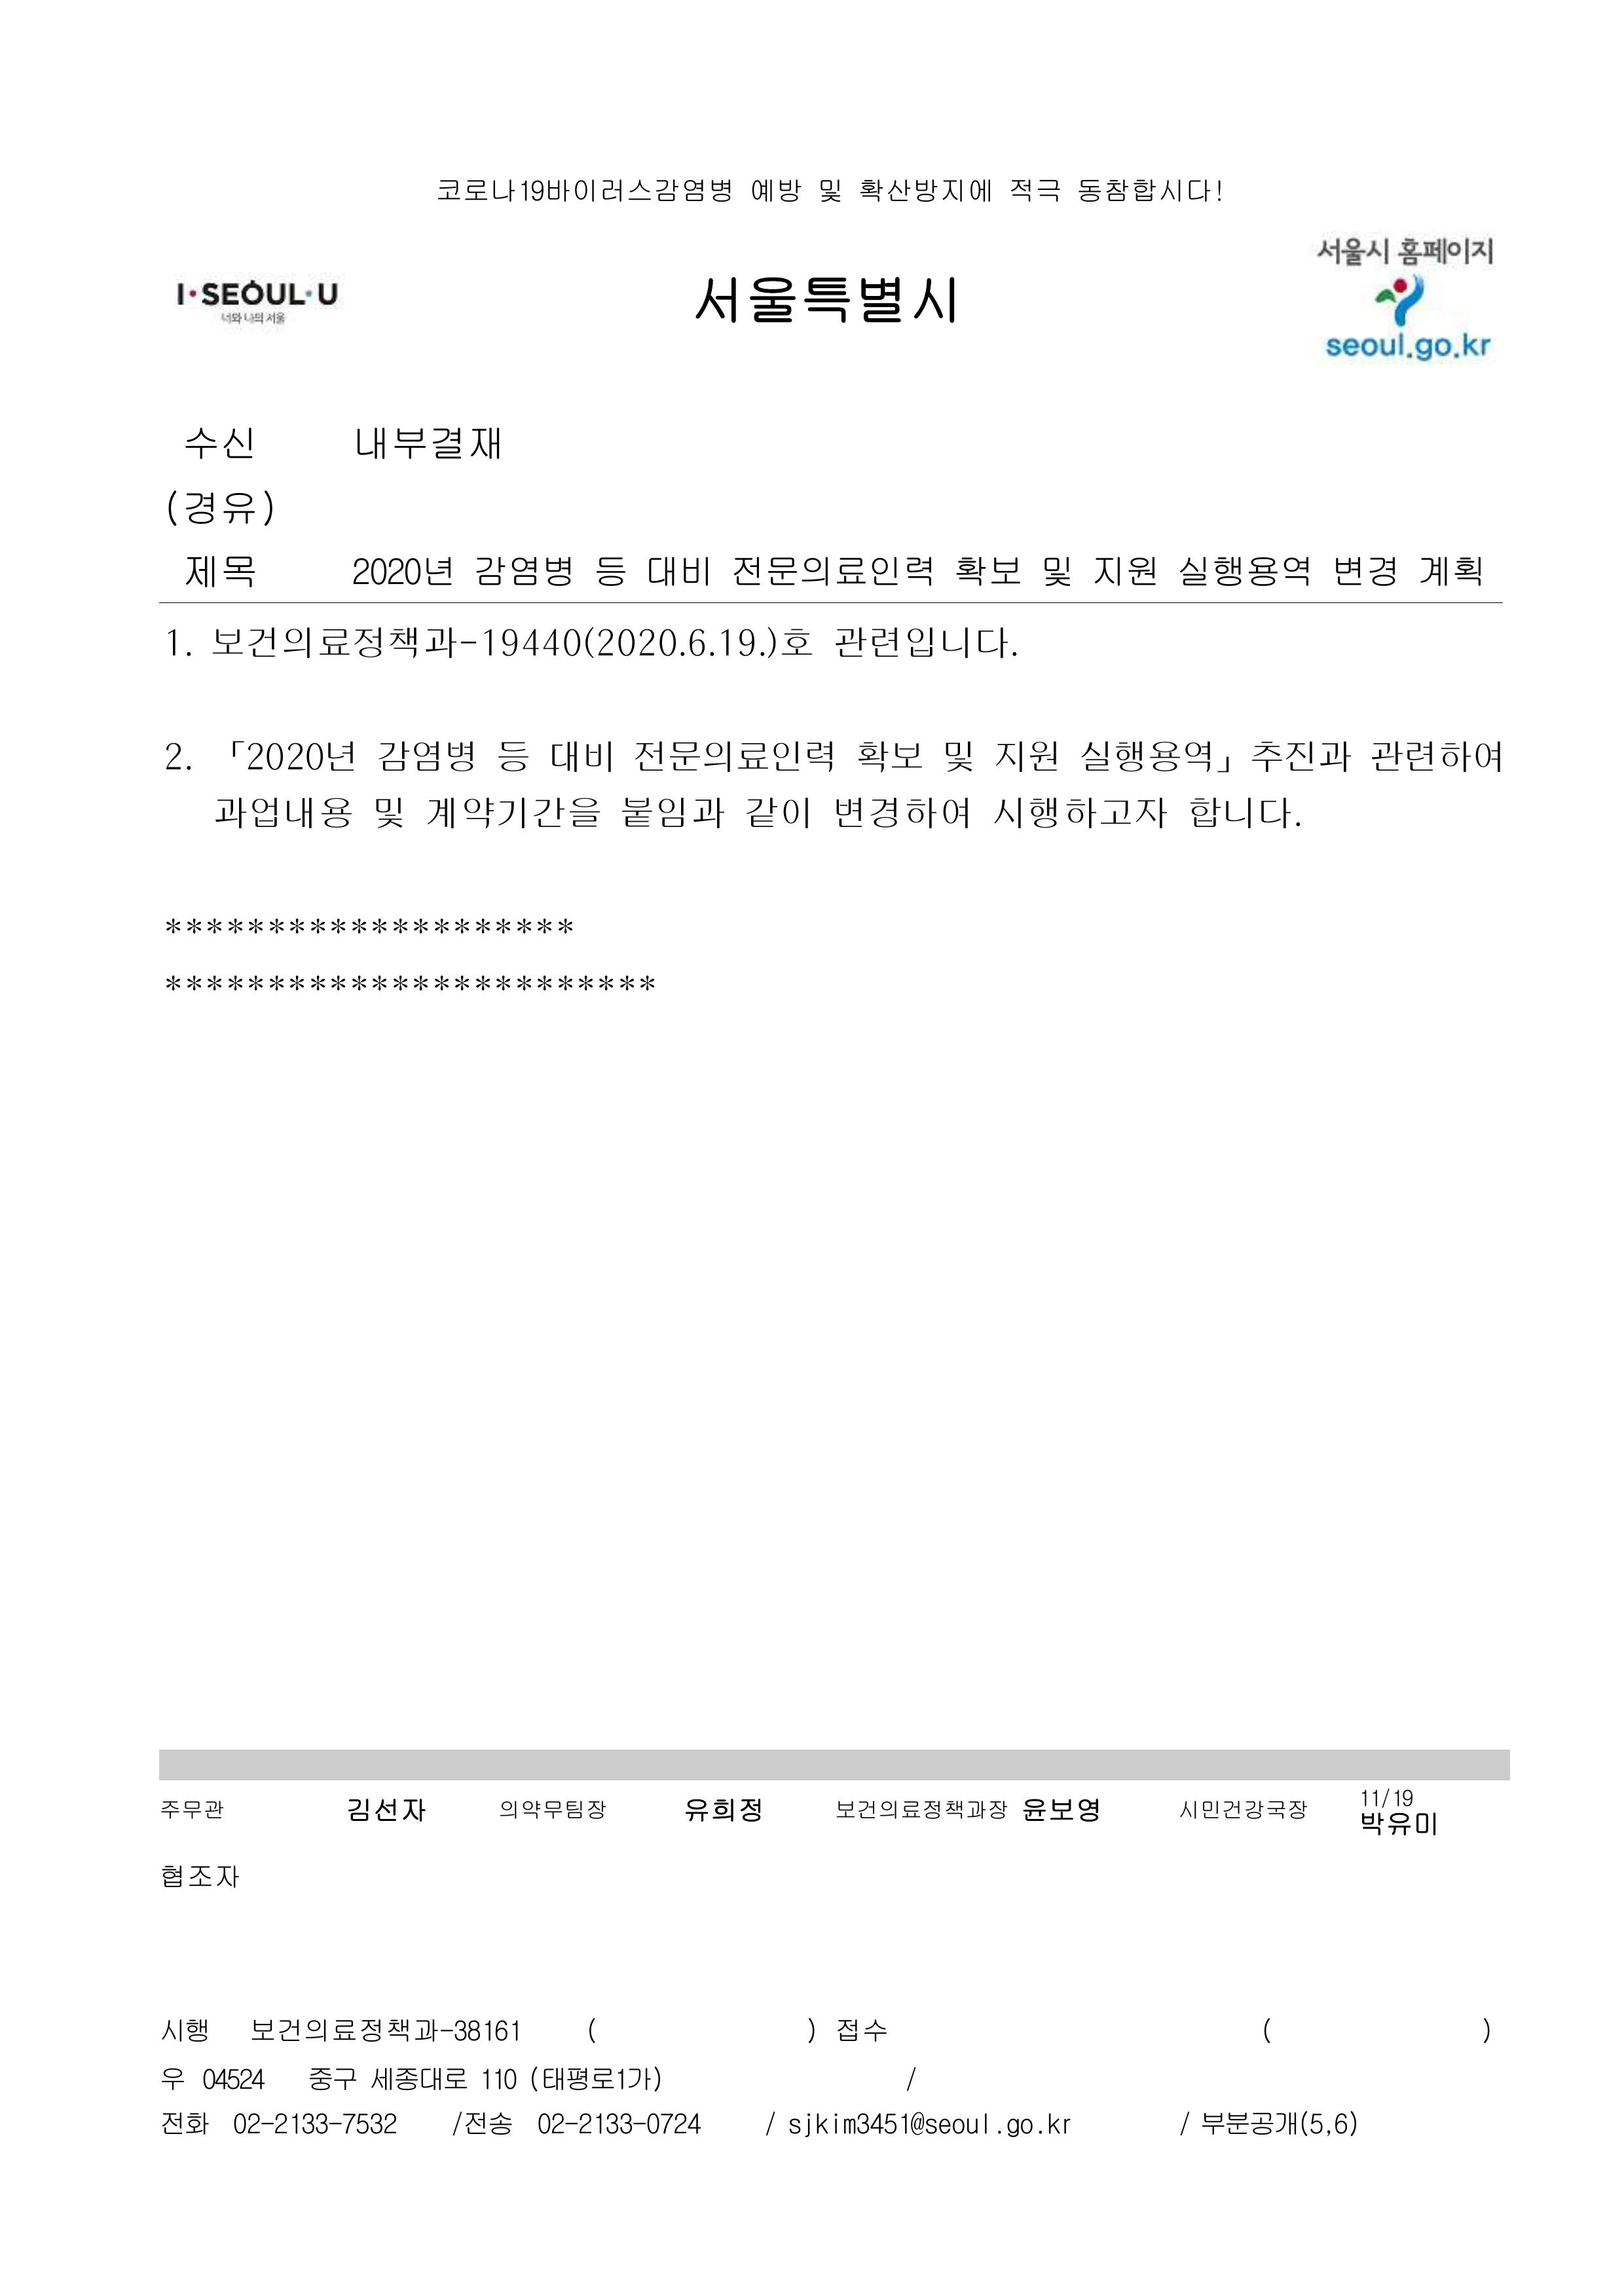t: (211, 624, 780, 662), (689, 269, 961, 329), (246, 2016, 524, 2047), (728, 552, 935, 590), (627, 735, 835, 773), (517, 172, 735, 207), (424, 793, 603, 835), (990, 793, 1169, 831), (352, 424, 506, 466), (831, 624, 1014, 659), (1076, 735, 1234, 773), (828, 793, 972, 831), (211, 793, 352, 831), (1072, 172, 1225, 207), (172, 276, 341, 308), (534, 2109, 703, 2140), (1366, 735, 1503, 773), (1176, 552, 1308, 590), (227, 735, 359, 773), (852, 172, 997, 207), (162, 487, 276, 531), (228, 2109, 401, 2137), (527, 2061, 663, 2095), (835, 1799, 1011, 1824), (617, 793, 724, 831), (1197, 2109, 1327, 2140), (1186, 796, 1301, 831), (1390, 232, 1496, 269), (473, 552, 573, 590), (348, 552, 452, 589), (780, 2109, 900, 2140), (1248, 738, 1352, 773), (376, 738, 476, 773), (366, 2061, 469, 2095), (1176, 1799, 1308, 1824), (1313, 232, 1396, 269), (1355, 1806, 1441, 1840), (183, 552, 255, 590), (156, 1861, 244, 1893), (186, 424, 255, 462), (742, 793, 810, 831), (900, 2109, 993, 2137), (344, 1792, 427, 1824), (680, 1792, 763, 1824), (1018, 1792, 1100, 1824), (852, 738, 924, 773), (645, 552, 714, 589), (953, 552, 1021, 589), (1090, 552, 1158, 589), (499, 1799, 610, 1822), (1410, 337, 1494, 367), (1330, 552, 1397, 589), (434, 176, 520, 204), (548, 738, 617, 773), (990, 738, 1058, 773), (197, 2061, 269, 2095), (1417, 552, 1480, 589), (1323, 334, 1413, 358), (1004, 172, 1062, 204), (745, 176, 803, 207), (448, 2109, 513, 2137), (555, 975, 659, 993), (304, 2065, 359, 2095), (156, 2016, 211, 2044), (831, 2016, 886, 2044), (162, 1799, 227, 1822), (476, 2061, 520, 2095), (591, 552, 627, 590), (494, 735, 531, 773), (939, 738, 975, 773), (1040, 552, 1072, 590), (1359, 1789, 1417, 1810), (162, 2112, 211, 2137), (373, 796, 404, 831), (431, 917, 508, 931), (452, 975, 513, 993), (814, 176, 845, 207), (780, 627, 810, 659), (1330, 2109, 1359, 2137), (1004, 2116, 1035, 2140), (390, 917, 431, 935), (308, 975, 348, 993), (169, 631, 193, 659), (352, 917, 390, 935), (165, 975, 204, 993), (169, 742, 190, 773), (183, 917, 221, 931), (513, 975, 552, 989), (411, 975, 448, 989), (1048, 2116, 1072, 2137), (246, 975, 269, 993), (286, 975, 308, 993), (348, 975, 369, 993), (369, 975, 390, 993), (390, 975, 411, 993), (227, 917, 246, 935), (227, 975, 246, 993), (204, 975, 221, 989)
